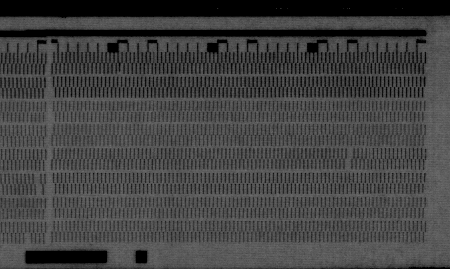Broken hole: (31, 173, 45, 197), (343, 148, 356, 171), (22, 233, 34, 245)
Oblique printing: (115, 63, 126, 76)
